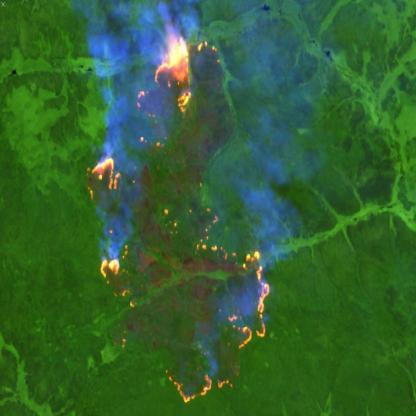fire: (161, 236, 271, 406), (128, 31, 228, 126), (78, 150, 128, 306)
